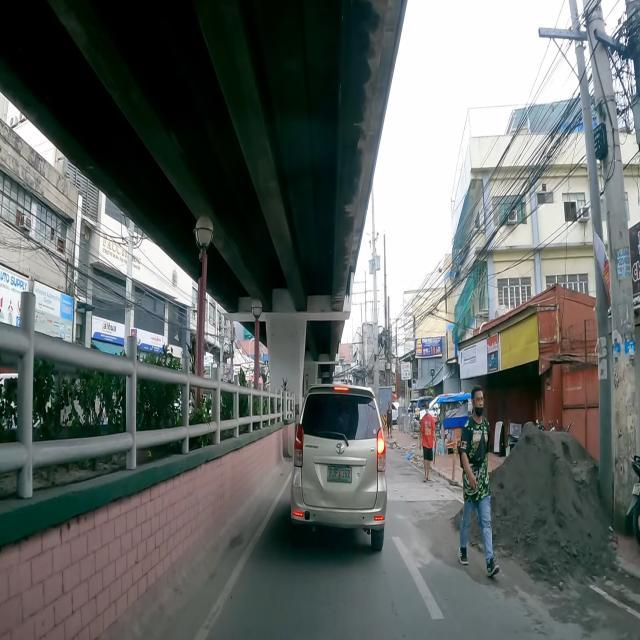car: (290, 386, 387, 554)
